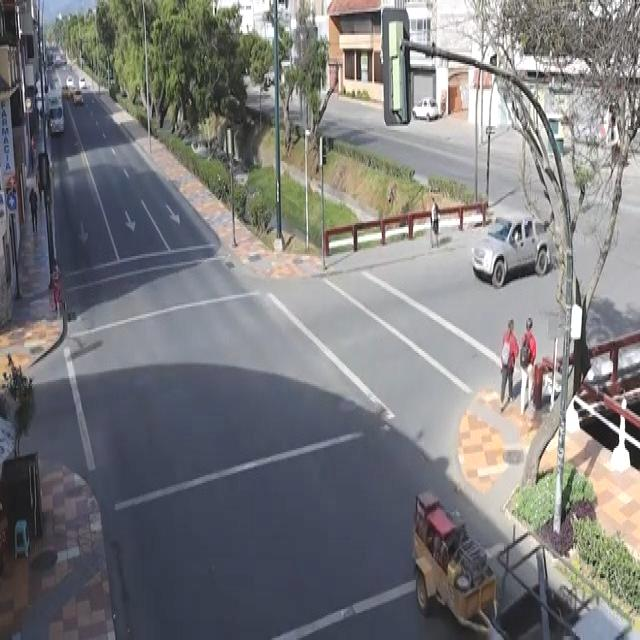CMT: (470, 214, 553, 284)
